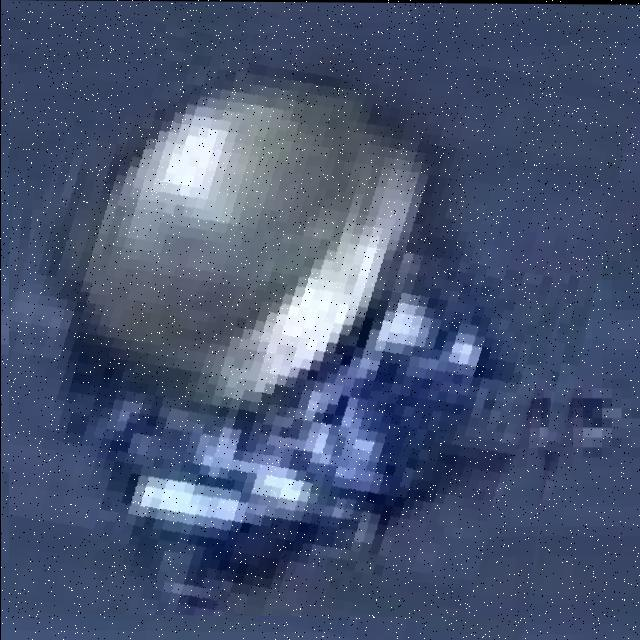litter: (8, 29, 566, 616)
